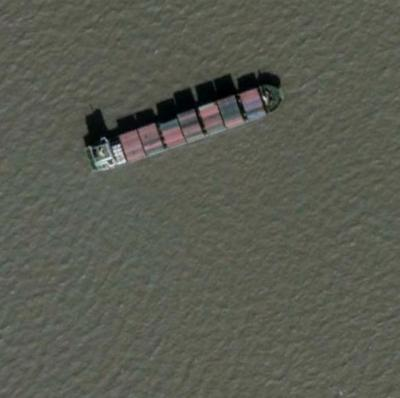Ships: (81, 77, 295, 183)
